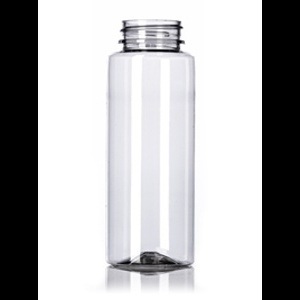emptybottle: (108, 19, 194, 273)
